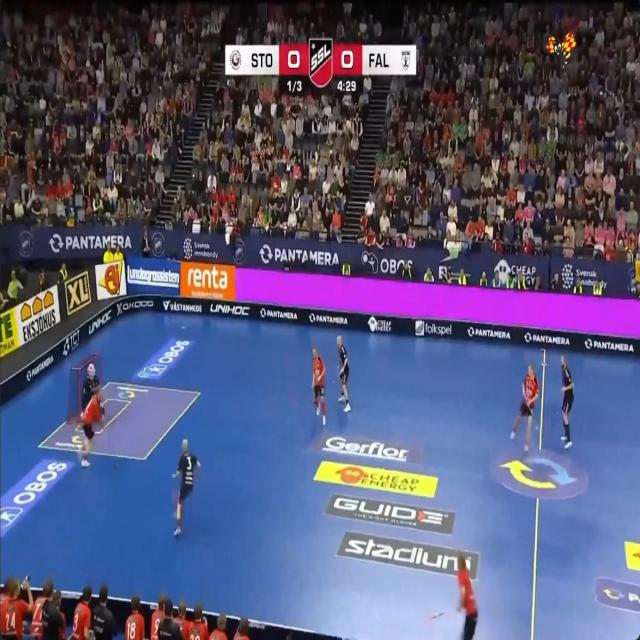player: (174, 439, 200, 536), (511, 364, 540, 450), (80, 390, 103, 466), (457, 553, 477, 639), (560, 356, 573, 449), (312, 347, 325, 424), (337, 336, 350, 412), (81, 363, 100, 407)
